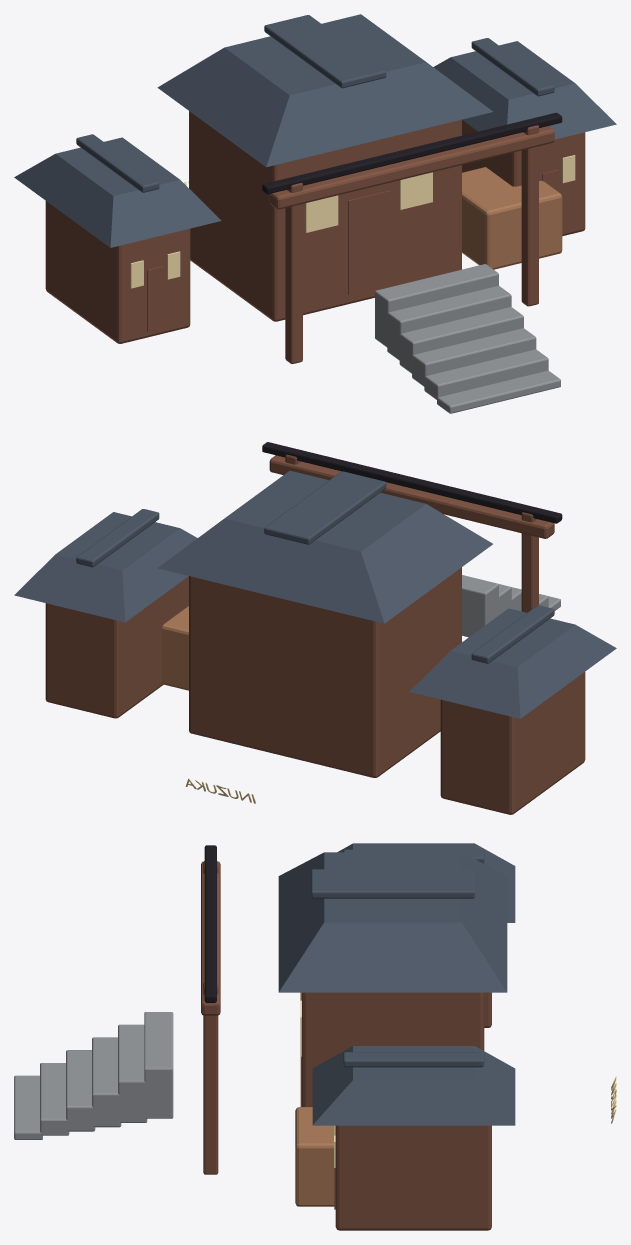
The model's file is 08_inuzuka.glb.
3 views of the same model, one above another, from view 1: azimuth 30°, elevation 25°; view 2: azimuth 150°, elevation 25°; view 3: azimuth 270°, elevation 25° (orthographic). The views are drawn at different scales.
Visible parts, largest first — view 1: cliff_main_body.001; view 2: cliff_main_body.001; view 3: cliff_main_body.001.
Boxes of the visible parts, box(x1,y1,x2,y2) form: cliff_main_body.001: box(14, 14, 616, 413); cliff_main_body.001: box(14, 442, 616, 814); cliff_main_body.001: box(14, 843, 515, 1230).
Size of the model in its own units: 13.21 by 5.51 by 12.97.
